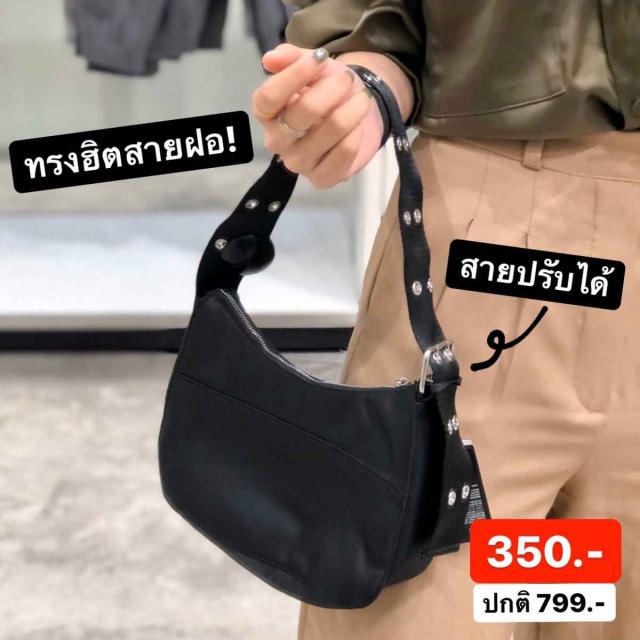Handbag: (156, 262, 470, 610)
